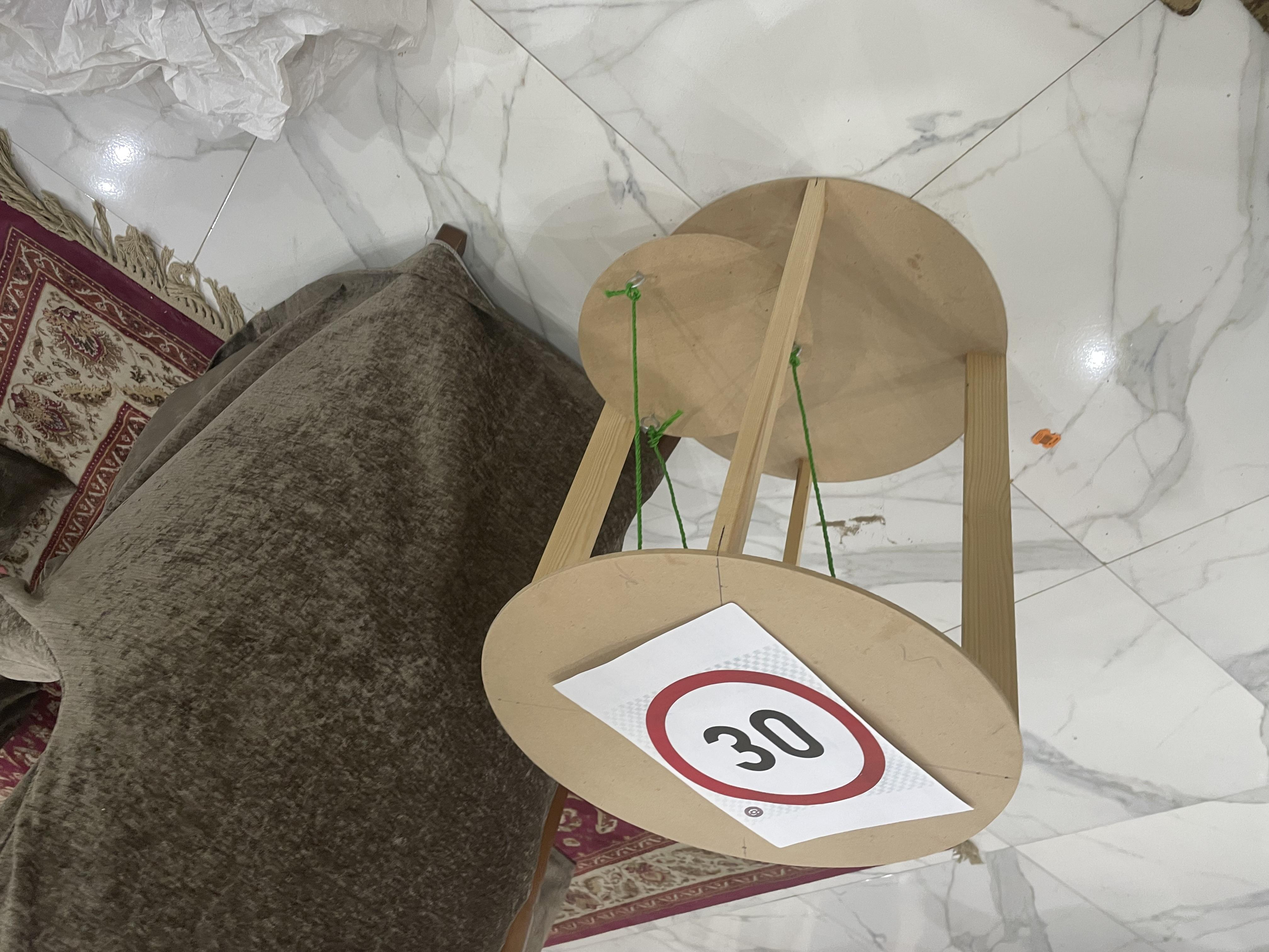30-speed: (394, 136, 639, 287)
